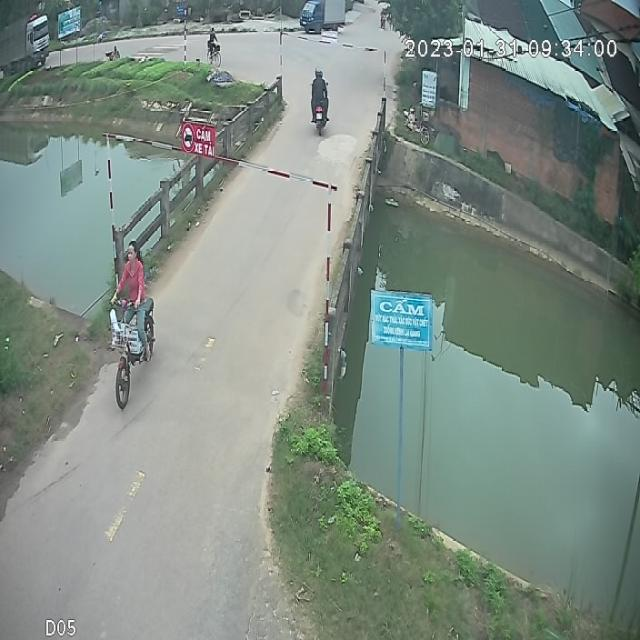with_helmet: (307, 61, 330, 89)
without_helmet: (114, 234, 151, 274)
